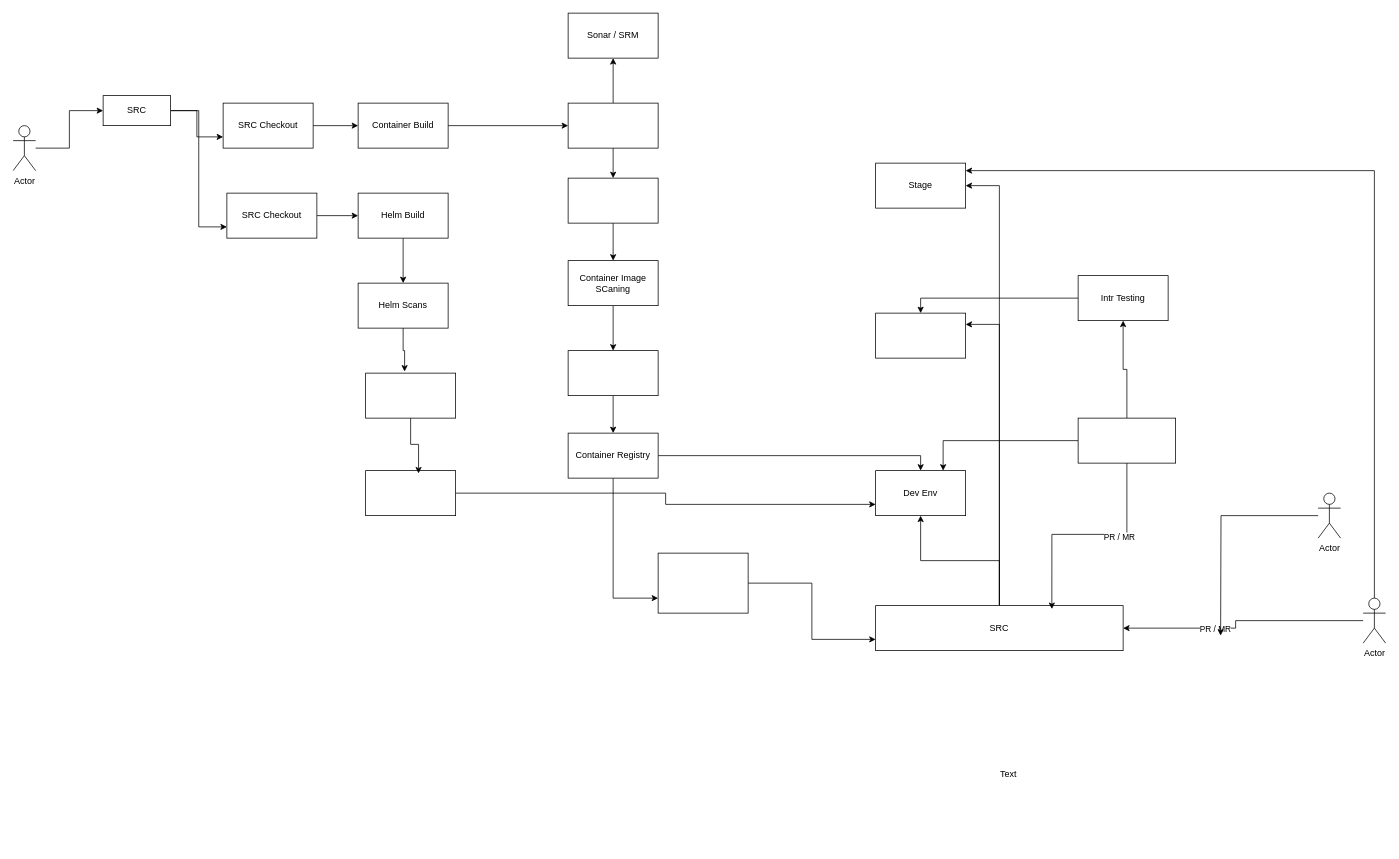
This 1399x859 diagram has some shape labels left out. The centre of each missing label's shape, as x and y in pixels:
"Container Image Updator" goes at point 702,582.
"Container Publish" goes at point 612,373.
"Helm Publish Artifacts" goes at point 410,395.
"Intr" goes at point 920,335.
"Jfrog / Artifacthub" goes at point 410,493.
"Promote to Int" goes at point 1126,440.
"SAST/DAST" goes at point 612,125.
"Unit Test" goes at point 612,200.
